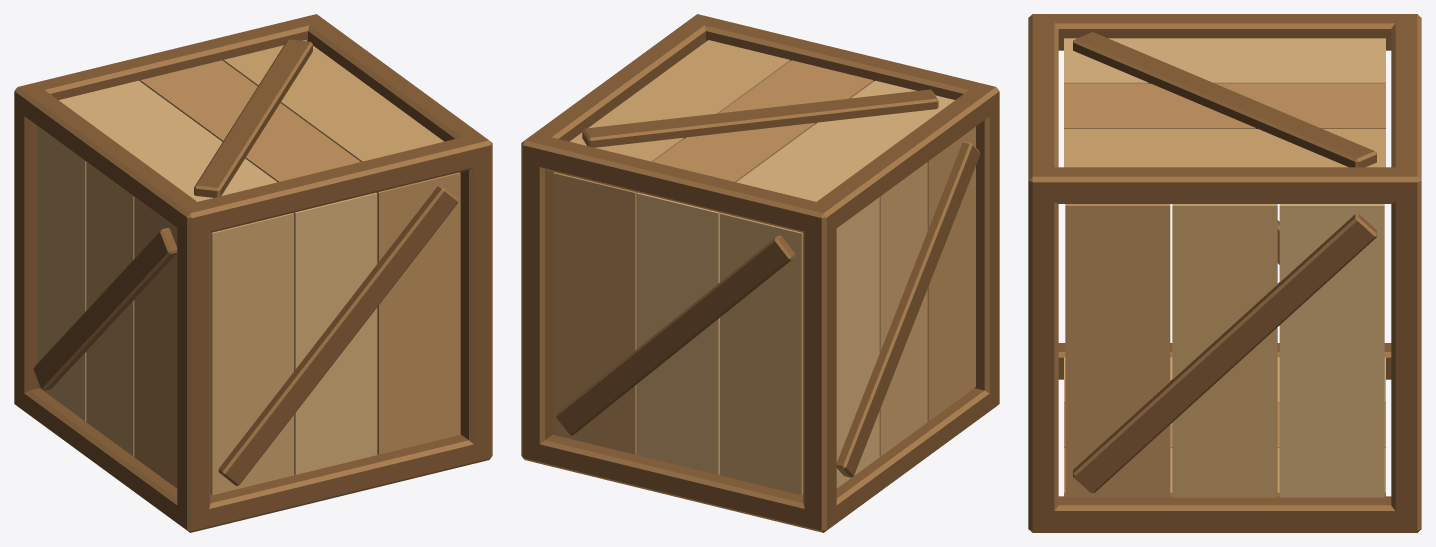
File: wooden_crate.fbx
The picture shows the model from 3 angles, left to right: view 1: azimuth 30°, elevation 25°; view 2: azimuth 150°, elevation 25°; view 3: azimuth 270°, elevation 25°; orthographic projection. The views are drawn at different scales.
Parts seen in each view (by area): view 1: WoodenCrate; view 2: WoodenCrate; view 3: WoodenCrate.
Part boxes in pixels (x1,y1,x2,y2): WoodenCrate: [14, 14, 492, 532]; WoodenCrate: [521, 14, 999, 532]; WoodenCrate: [1028, 14, 1421, 532].
Size of the model in its own units: 0.616 by 0.616 by 0.616.
